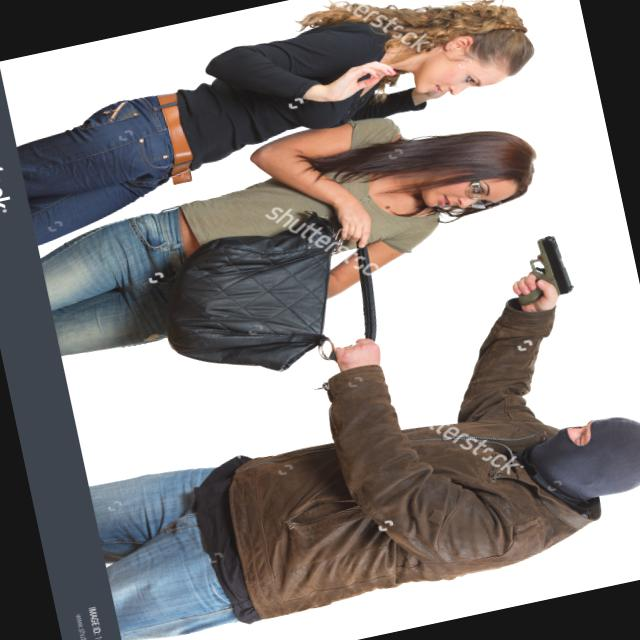handgun: (506, 230, 576, 309)
